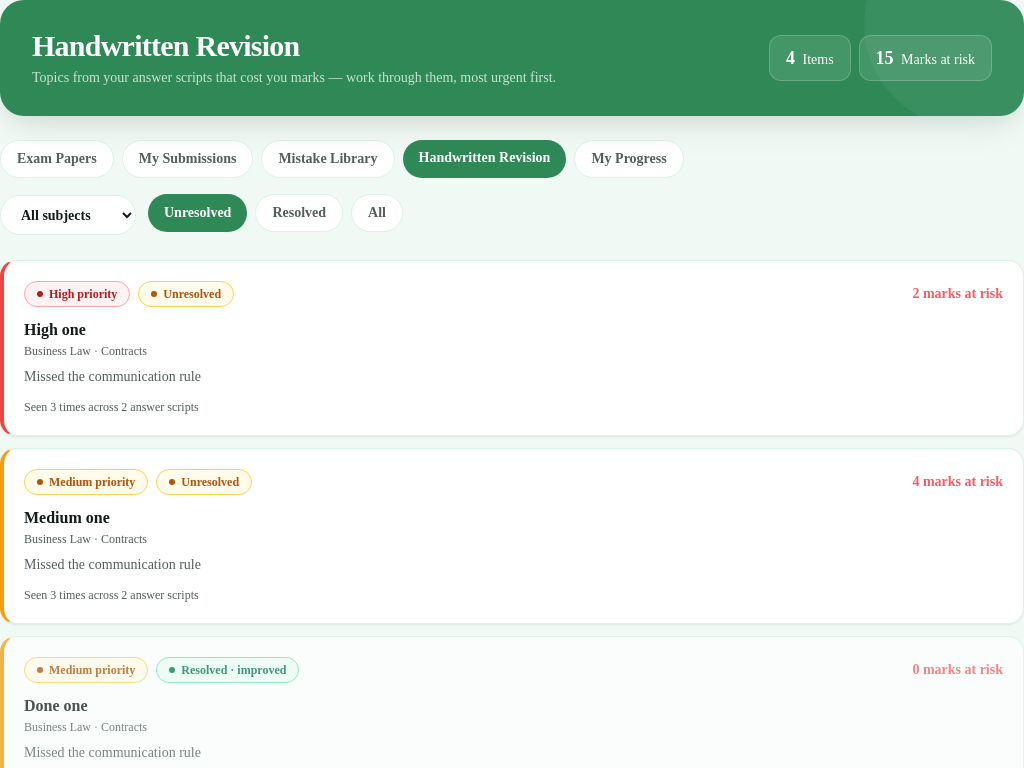
Scenario: HandwrittenRevision › explains an empty result when filters are active
Expected: the heading "High one" is shown, [24, 321, 86, 338]
Click the button "Resolved".
click(299, 213)  # box [255, 194, 343, 232]
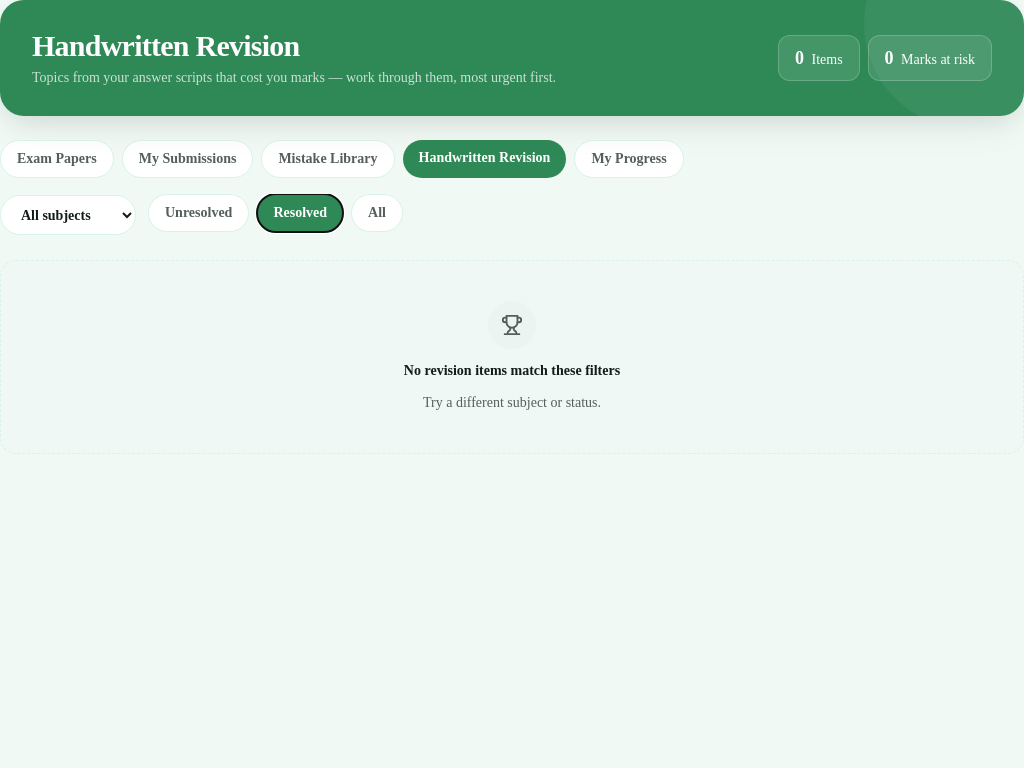
Result: the text "No revision items match these filters" is shown at [404, 361, 620, 381]
